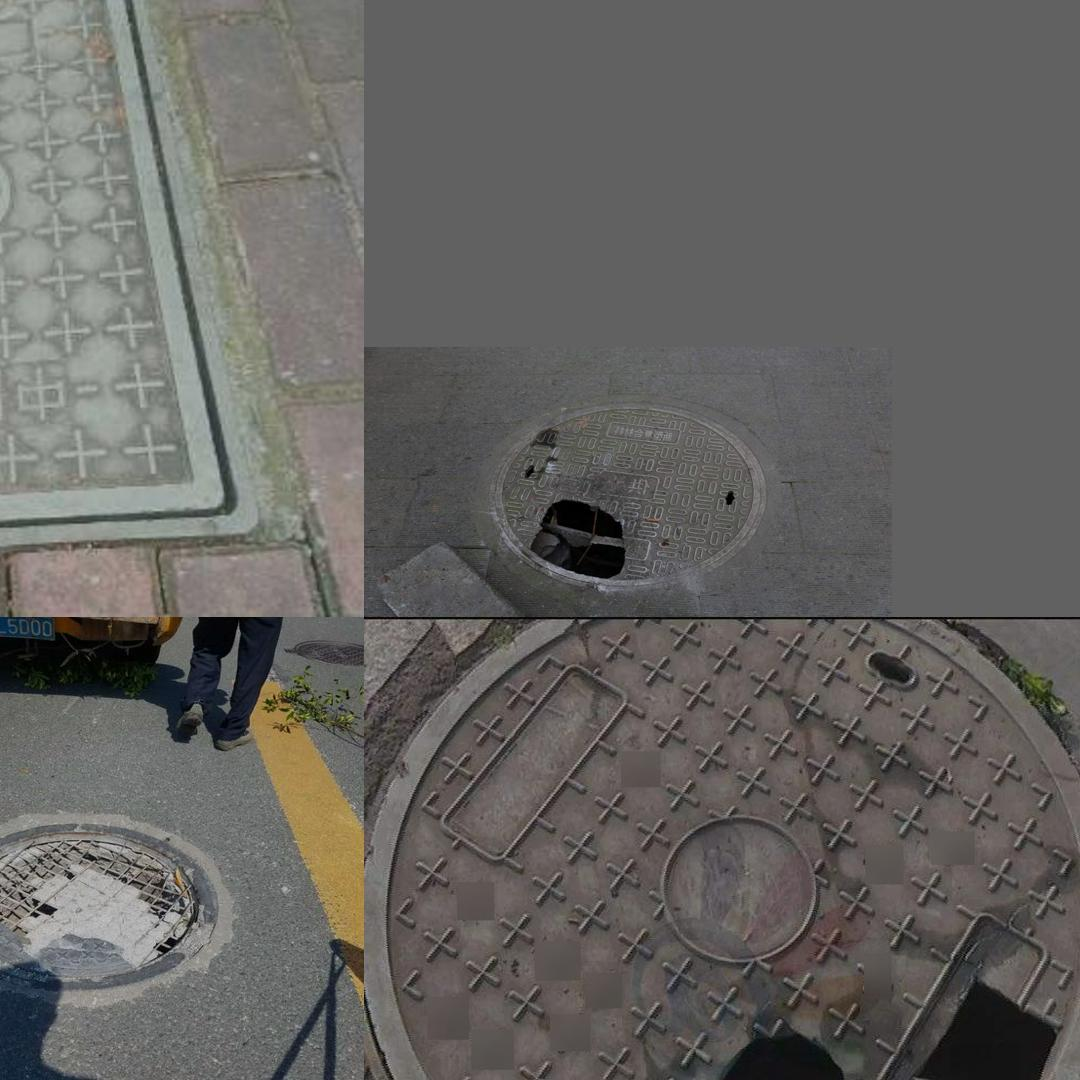broke: (385, 618, 1080, 1080), (0, 0, 264, 569), (488, 400, 766, 587), (0, 810, 236, 1002)
